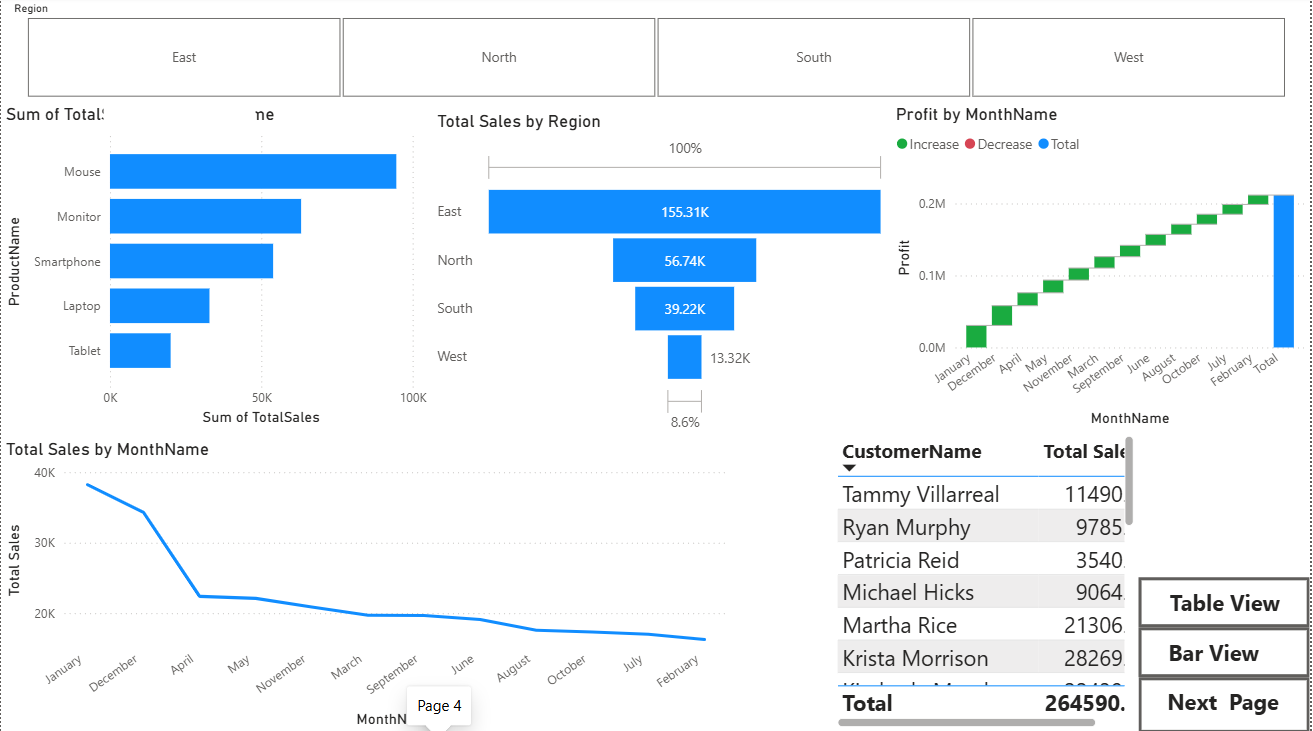

The page's visual inventory and layout, read from the dashboard file:
{"tool":"powerbi","page":{"name":"Page 1","canvas":[1280,720],"ordinal":0},"visuals":[{"type":"barChart","fields":{"Category":["Dim_Products.ProductName"],"Y":["Sum(Fact_Sales.TotalSales)"]},"box":[0,105.2,421.9,320.4],"z":0},{"type":"lineChart","fields":{"Category":["Dim_Date.MonthName"],"Y":["Fact_Sales.Total Sales"]},"box":[0,432.9,715.4,287.4],"z":1000},{"type":"funnel","fields":{"Category":["Dim_Customers.Region"],"Y":["Fact_Sales.Total Sales"]},"box":[421.9,112.5,448.8,320.4],"z":2000},{"type":"waterfallChart","fields":{"Category":["Dim_Date.MonthName"],"Y":["Fact_Sales.Profit"]},"box":[870.7,105.2,409.6,320.4],"z":3000},{"type":"slicer","fields":{"Values":["Dim_Customers.Region"]},"box":[0,0,1280.3,105.2],"z":4000},{"type":"actionButton","box":[1112.8,666,167.5,54.5],"z":5000},{"type":"textbox","box":[1135.9,670.1,121.2,44.9],"z":6000},{"type":"tableEx","fields":{"Values":["Dim_Customers.CustomerName","Fact_Sales.Total Sales"]},"box":[812,425.5,300.8,294.7],"z":8000},{"type":"actionButton","box":[1112.8,617.5,167.5,48.9],"z":9000},{"type":"actionButton","box":[1112.8,568.6,167.5,48.9],"z":10000},{"type":"textbox","box":[100.3,100.3,149.2,30.6],"z":11000},{"type":"textbox","box":[1137.2,622.4,121.1,40.4],"z":12000},{"type":"textbox","box":[1138.5,573.5,121.1,40.4],"z":13000}]}

Visuals, with their boxes in screenshot pixels (x1, y1, x2, y2), scaled from the page's 1280x720 canvas onto the 1313x731 screenshot:
barChart - Dim_Products.ProductName x Sum(Fact_Sales.TotalSales): Rect(0, 107, 433, 432)
lineChart - Dim_Date.MonthName x Fact_Sales.Total Sales: Rect(0, 440, 734, 730)
funnel - Dim_Customers.Region x Fact_Sales.Total Sales: Rect(433, 114, 893, 440)
waterfallChart - Dim_Date.MonthName x Fact_Sales.Profit: Rect(893, 107, 1312, 432)
slicer - Dim_Customers.Region: Rect(0, 0, 1312, 107)
actionButton: Rect(1141, 676, 1312, 730)
textbox: Rect(1165, 680, 1290, 726)
tableEx - Dim_Customers.CustomerName x Fact_Sales.Total Sales: Rect(833, 432, 1141, 730)
actionButton: Rect(1141, 627, 1312, 677)
actionButton: Rect(1141, 577, 1312, 627)
textbox: Rect(103, 102, 256, 133)
textbox: Rect(1167, 632, 1291, 673)
textbox: Rect(1168, 582, 1292, 623)
